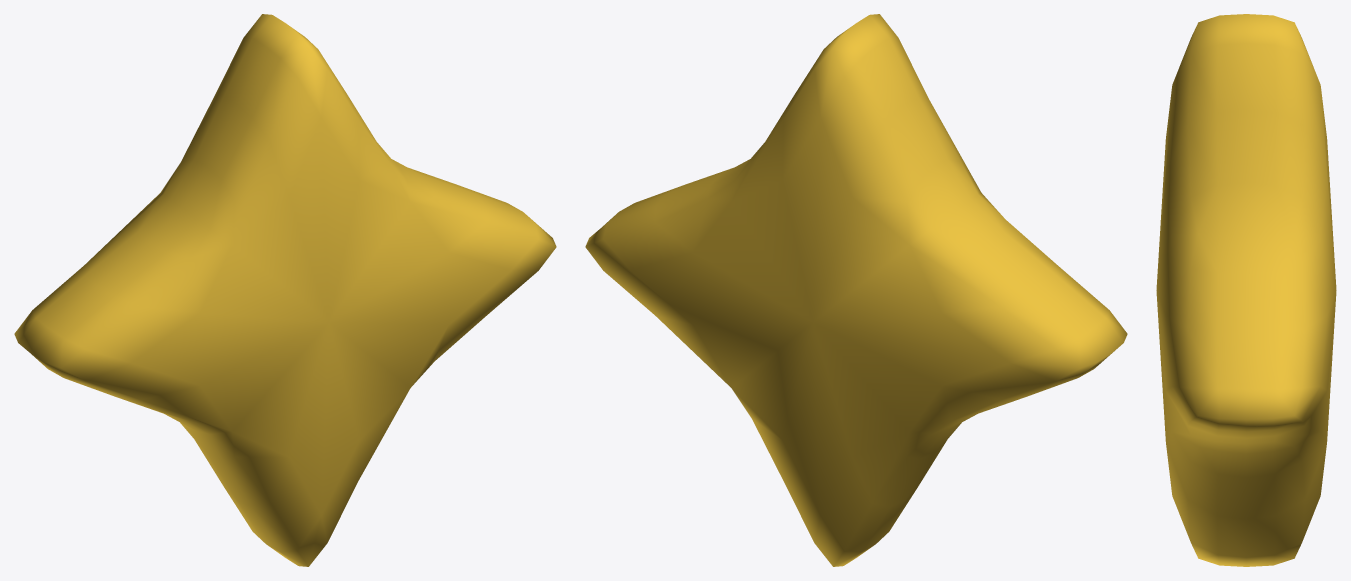
File: star1.glb
The picture shows the model from 3 angles, left to right: view 1: azimuth 30°, elevation 25°; view 2: azimuth 150°, elevation 25°; view 3: azimuth 270°, elevation 25°; orthographic projection. The views are drawn at different scales.
Visible parts, largest first — view 1: Circle.015; view 2: Circle.015; view 3: Circle.015.
Part boxes in pixels (bbox=[...]): Circle.015: bbox=[14, 14, 556, 566]; Circle.015: bbox=[585, 14, 1127, 566]; Circle.015: bbox=[1156, 14, 1336, 566].
Bounding box in the file's own units: 1.67 × 1.67 × 0.4914.
